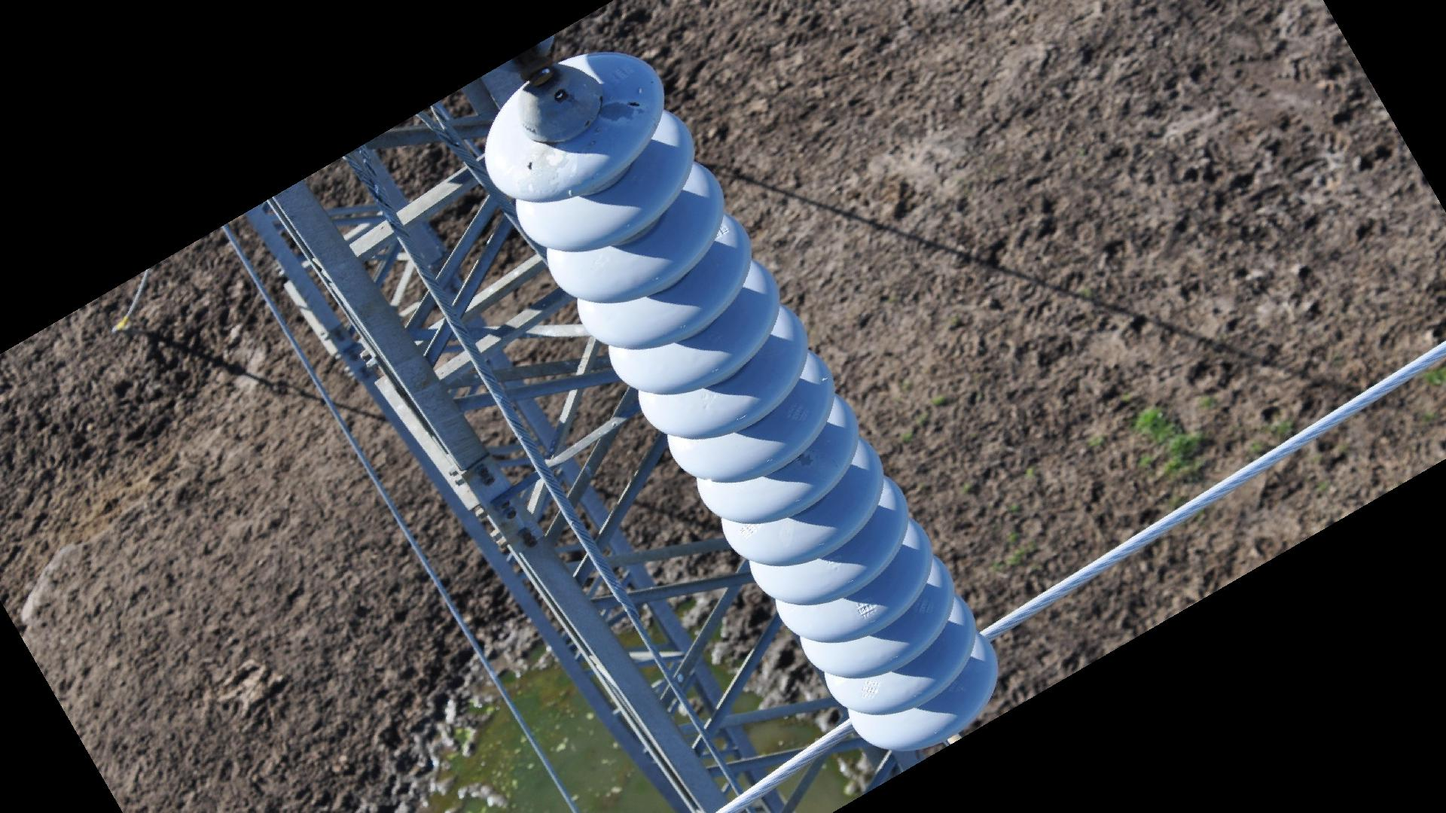insulator: (479, 43, 1000, 760)
insulator_flashover: (515, 142, 568, 197), (595, 97, 645, 127)
